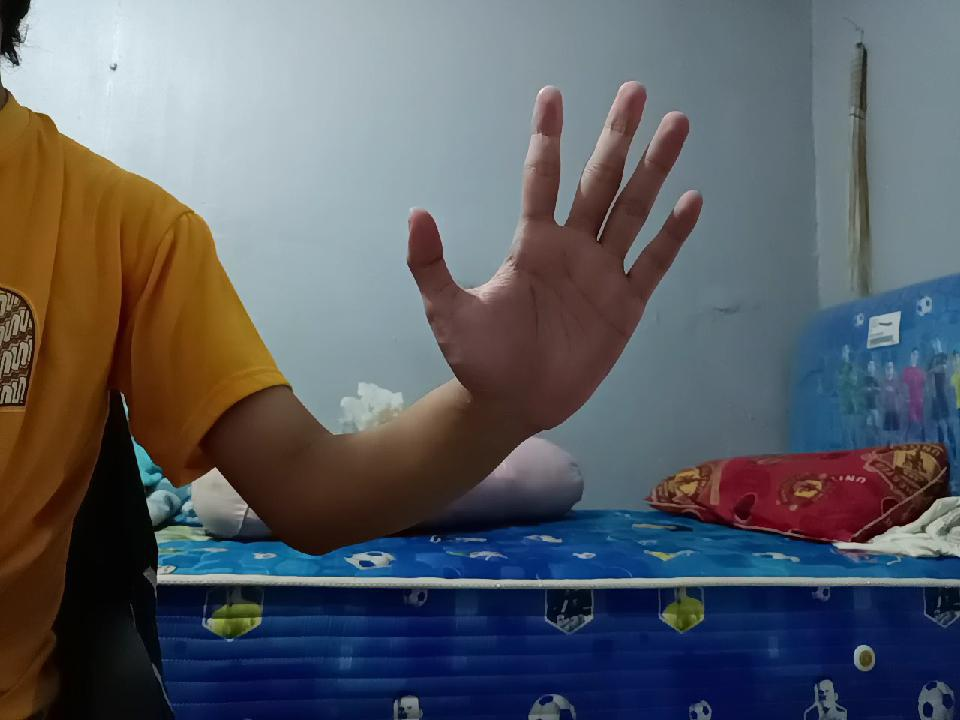paper: (394, 56, 694, 430)
